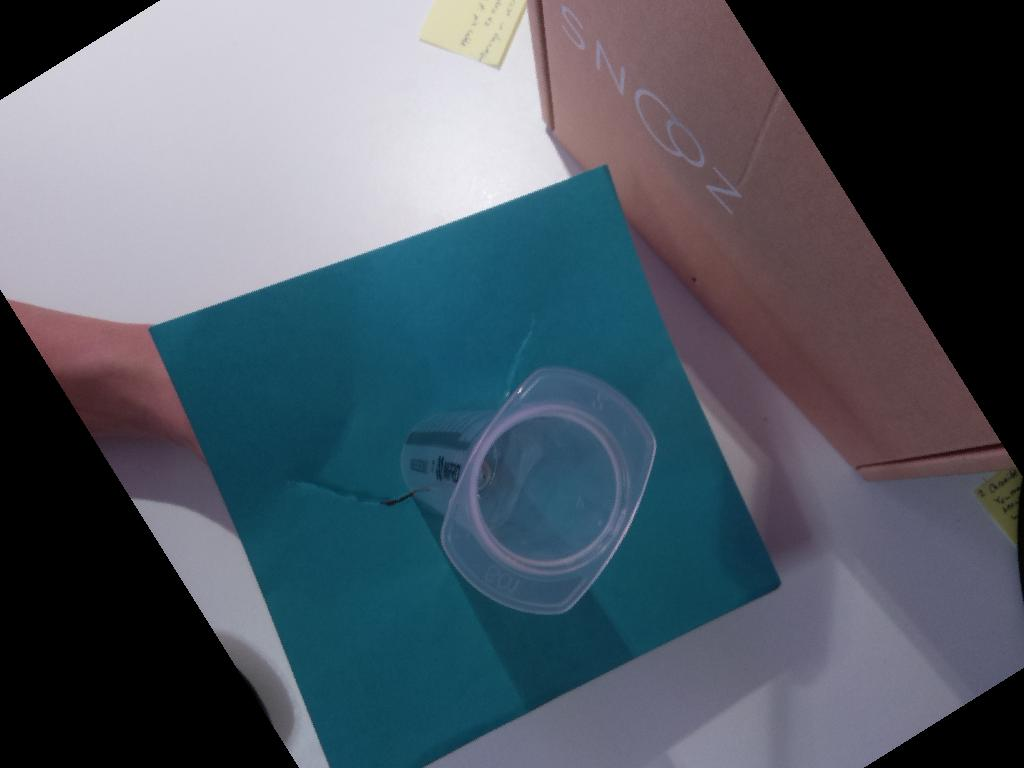clean: (440, 367, 656, 615)
